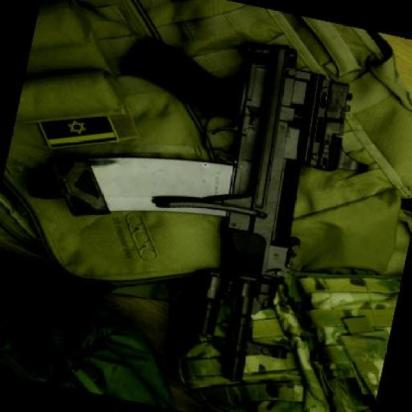Gun: (54, 5, 356, 402)
